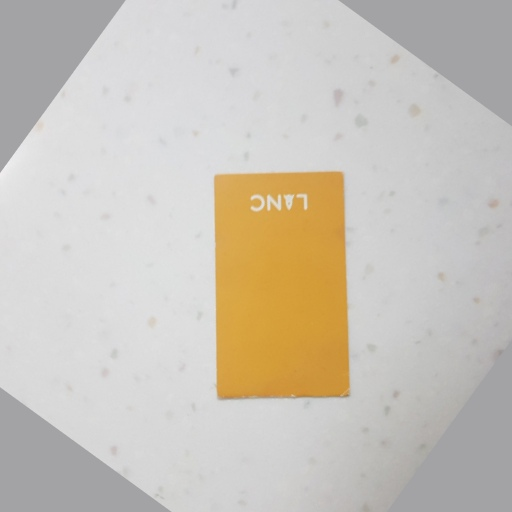Paper_2: (211, 163, 355, 408)
